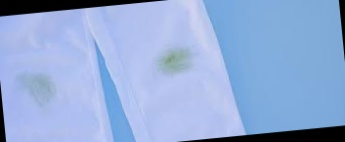earth: (25, 76, 58, 103), (157, 50, 188, 75)
